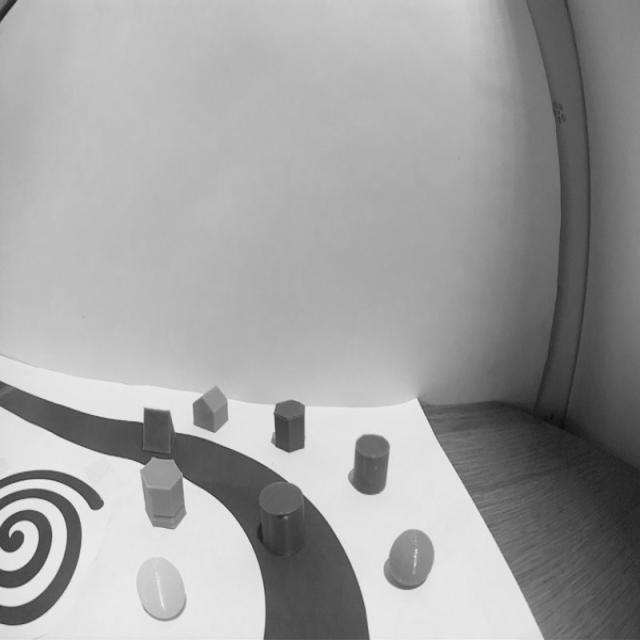ball: (136, 556, 187, 621), (385, 528, 434, 590)
cylinder: (258, 481, 304, 557), (352, 433, 391, 495)
hexagon: (140, 456, 186, 530), (273, 400, 305, 452)
home: (192, 386, 228, 434)
laneLeftTurn: (165, 423, 374, 640)
nest: (0, 465, 106, 626)
triangle: (142, 407, 176, 456)
